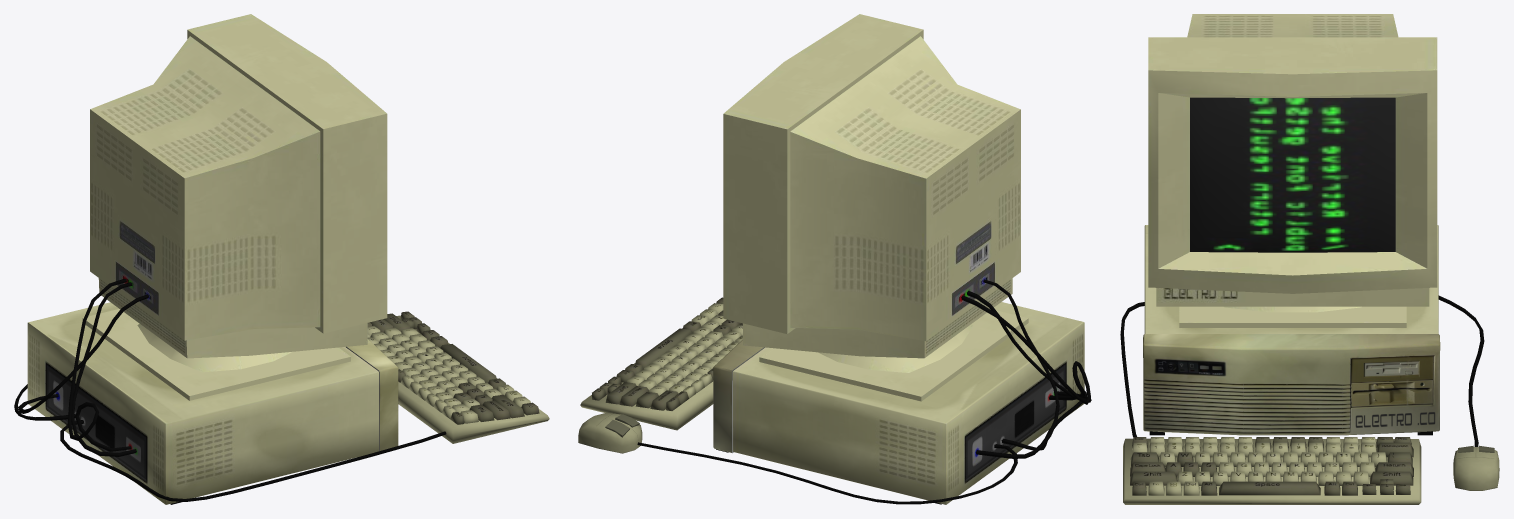
File: computer.glb
3 views of the same model, side by side, from view 1: azimuth 30°, elevation 25°; view 2: azimuth 150°, elevation 25°; view 3: azimuth 270°, elevation 25° (orthographic). The views are drawn at different scales.
Visible parts, largest first — view 1: Monitor_002.007_1, PC_004.007_4, KeyBoard_002.005_0, PC_004.005_10, NurbsPath.020_8, NurbsPath.014_6, NurbsPath.021_9; view 2: Monitor_002.007_1, PC_004.007_4, KeyBoard_002.005_0, PC_004.005_10, Mouse_001.005_3, NurbsPath.020_8, NurbsPath.016_7, NurbsPath.021_9; view 3: Monitor_002.007_1, PC_004.005_10, KeyBoard_002.005_0, PC_004.007_4, Mouse_001.005_3, NurbsPath.016_7, NurbsPath.014_6.
Boxes of the visible parts, x1,y1,x2,y2 form: Monitor_002.007_1: (82, 14, 387, 400); PC_004.007_4: (27, 302, 378, 504); KeyBoard_002.005_0: (367, 311, 549, 443); PC_004.005_10: (346, 339, 398, 451); NurbsPath.020_8: (67, 278, 136, 456); NurbsPath.014_6: (60, 420, 446, 501); NurbsPath.021_9: (18, 294, 148, 413); Monitor_002.007_1: (723, 14, 1028, 401); PC_004.007_4: (716, 302, 1084, 504); KeyBoard_002.005_0: (580, 297, 742, 430); PC_004.005_10: (713, 339, 764, 453); Mouse_001.005_3: (578, 412, 642, 453); NurbsPath.020_8: (961, 290, 1091, 404); NurbsPath.016_7: (637, 442, 1017, 504); NurbsPath.021_9: (976, 279, 1059, 458); Monitor_002.007_1: (1148, 14, 1437, 327); PC_004.005_10: (1143, 334, 1440, 435); KeyBoard_002.005_0: (1123, 437, 1421, 504); PC_004.007_4: (1144, 225, 1438, 435); Mouse_001.005_3: (1453, 445, 1499, 490); NurbsPath.016_7: (1438, 295, 1484, 446); NurbsPath.014_6: (1120, 302, 1144, 437).
Size of the model in its own units: 0.7459 by 0.5672 by 0.5409.
7 materials, 6 textured.
